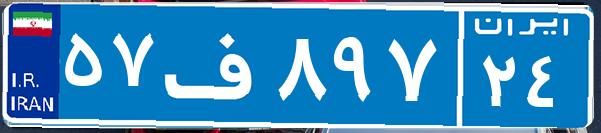2: (475, 38, 525, 113)
4: (525, 38, 570, 115)
5: (57, 26, 110, 107)
7: (385, 28, 445, 110), (110, 28, 158, 105)
8: (273, 28, 330, 110)
9: (330, 28, 385, 110)
ف: (158, 15, 273, 115)
